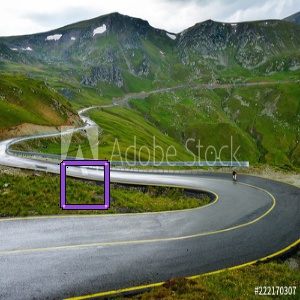square: (55, 157, 113, 212)
